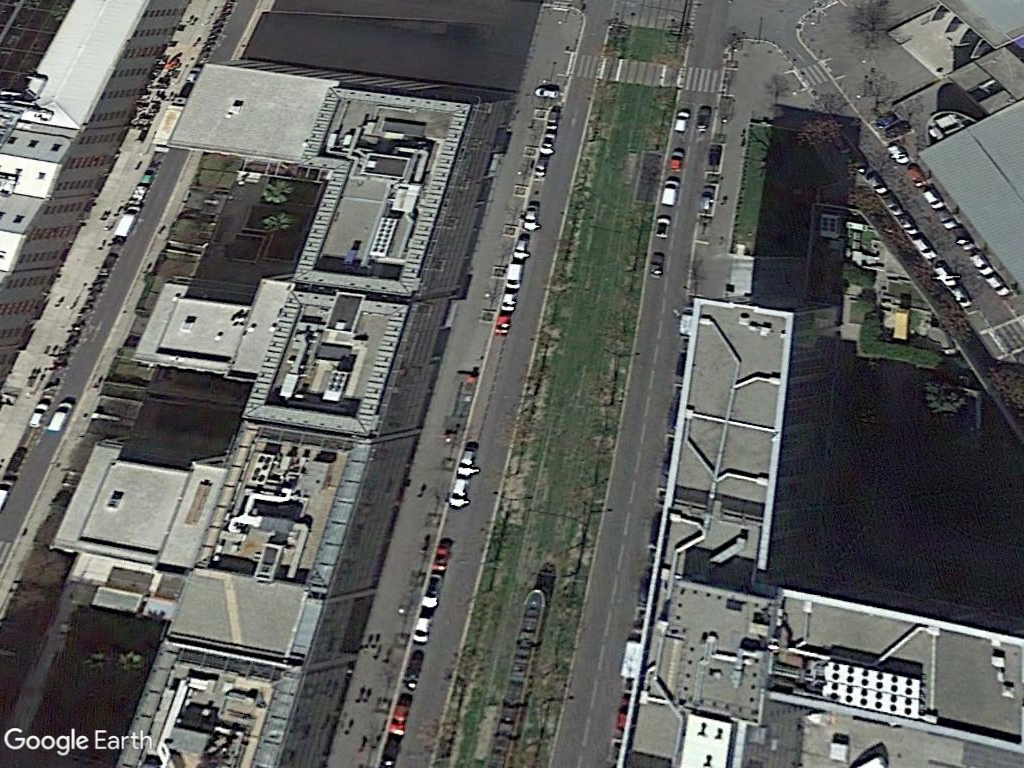van: (659, 176, 681, 210)
